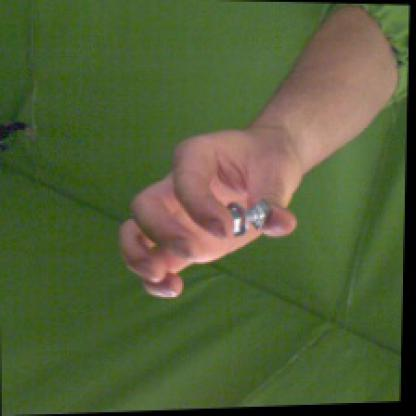Hand: (118, 129, 295, 301)
